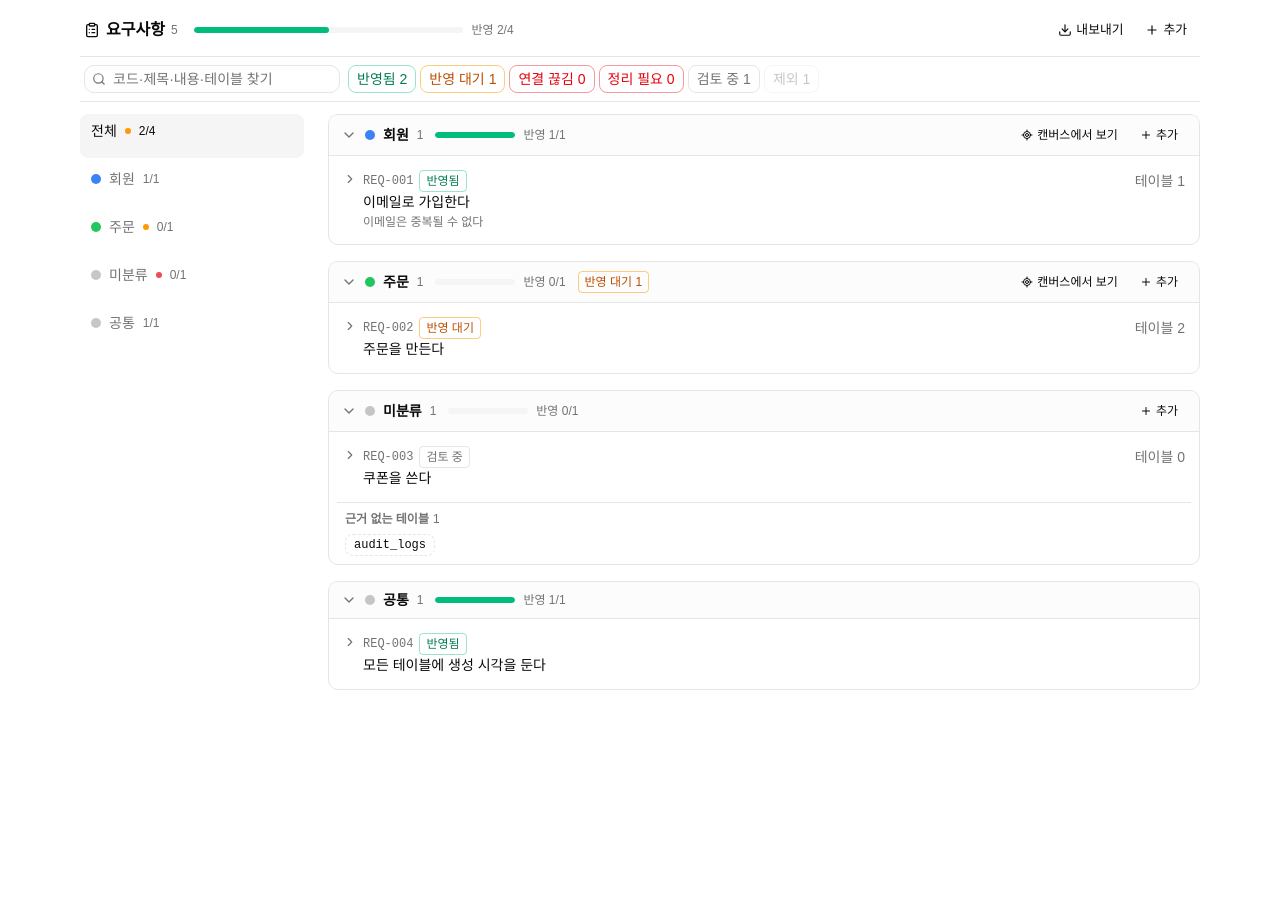
Test: RequirementsPanel › 도메인 목록 — 도메인마다 반영 수와 진행을 보여 주고, 고르면 그 도메인만 본다
Expected: the button with test id "requirement-domain-item" shows "전체", x1=80 y1=114 x2=304 y2=158
Expected: the button with test id "requirement-domain-item" shows "2/4", x1=80 y1=114 x2=304 y2=158
Click the button with test id "requirement-domain-item" at [192, 232], box x1=80 y1=210 x2=304 y2=254
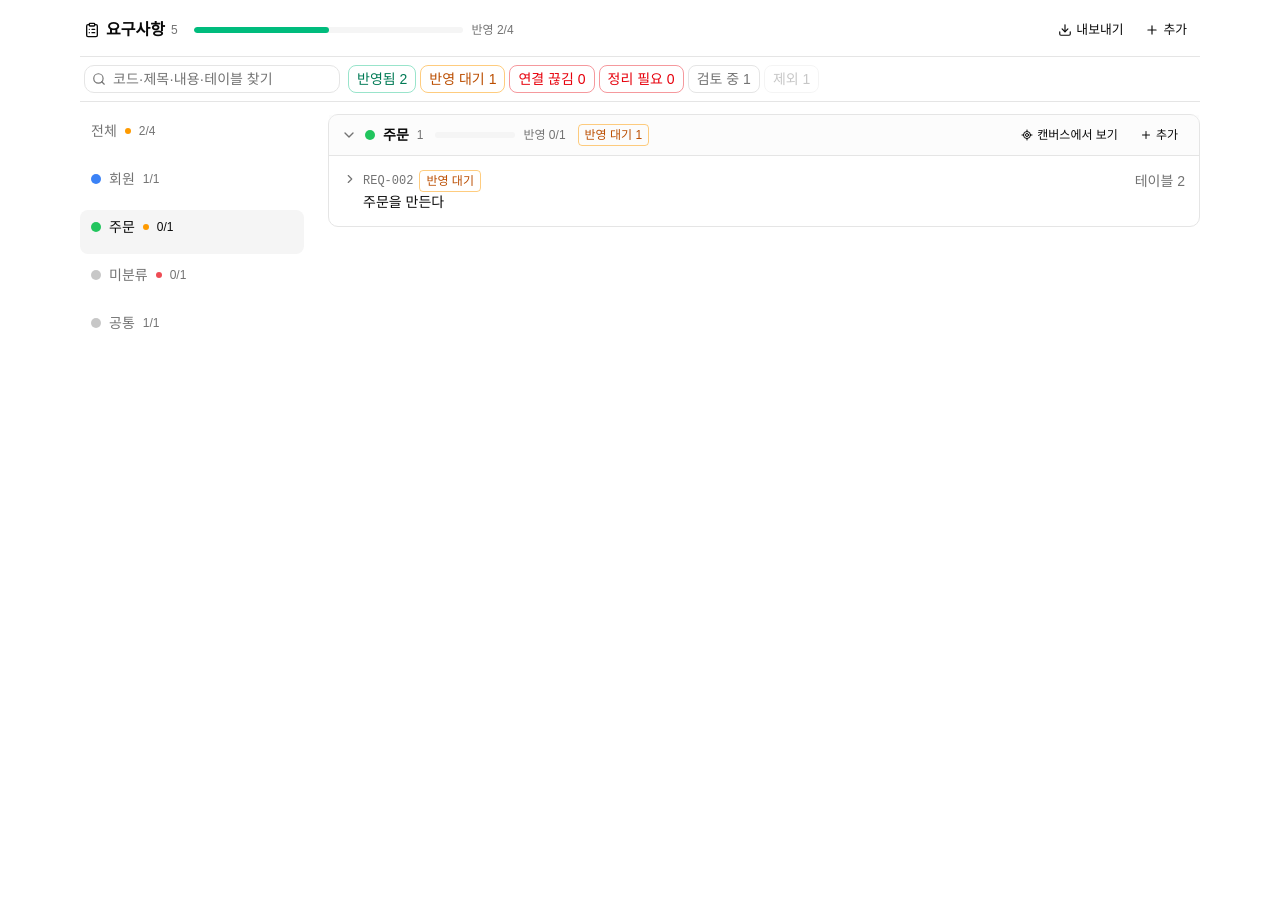
Expected: the heading with test id "requirement-group-name" reads "주문", x1=383 y1=127 x2=409 y2=143
Result: the number of list items with test id "requirement-group" is 1 at x1=328 y1=114 x2=1200 y2=227
Result: the button "이메일로 가입한다" is gone
Click the button with test id "requirement-domain-item" at [192, 136], box x1=80 y1=114 x2=304 y2=158
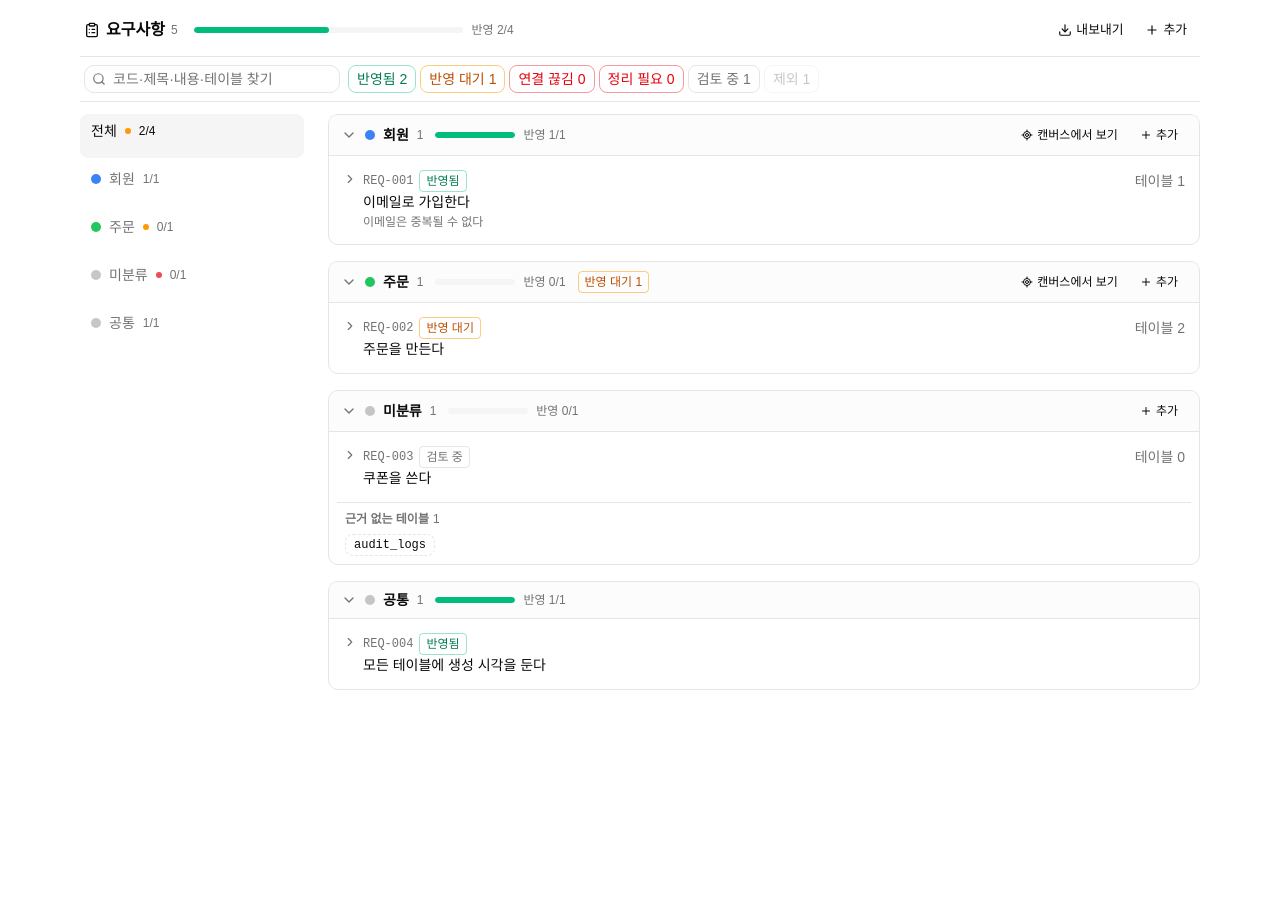
Result: the number of list items with test id "requirement-group" is 4 at x1=328 y1=114 x2=1200 y2=245; x1=328 y1=261 x2=1200 y2=374; x1=328 y1=390 x2=1200 y2=565; x1=328 y1=581 x2=1200 y2=690
